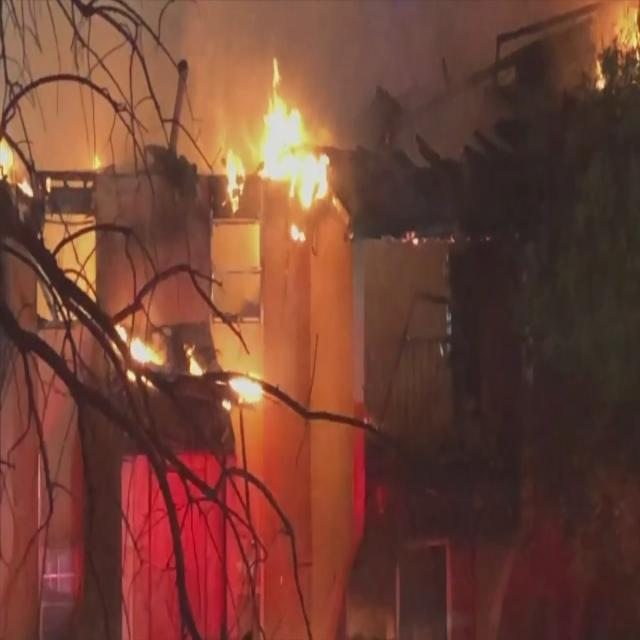Fire: (252, 53, 332, 210), (108, 323, 164, 388), (0, 131, 34, 197), (220, 146, 247, 218), (613, 0, 640, 65), (219, 372, 264, 410), (592, 56, 610, 92), (185, 344, 203, 376), (288, 223, 306, 242), (402, 230, 419, 247), (92, 152, 103, 172)
Smoke: (0, 0, 250, 143), (331, 0, 496, 148), (250, 0, 335, 57)
